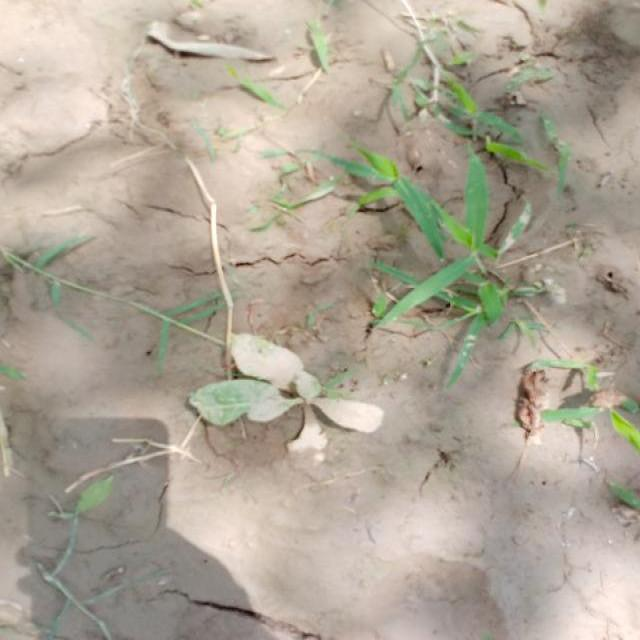crop: (194, 338, 386, 469)
